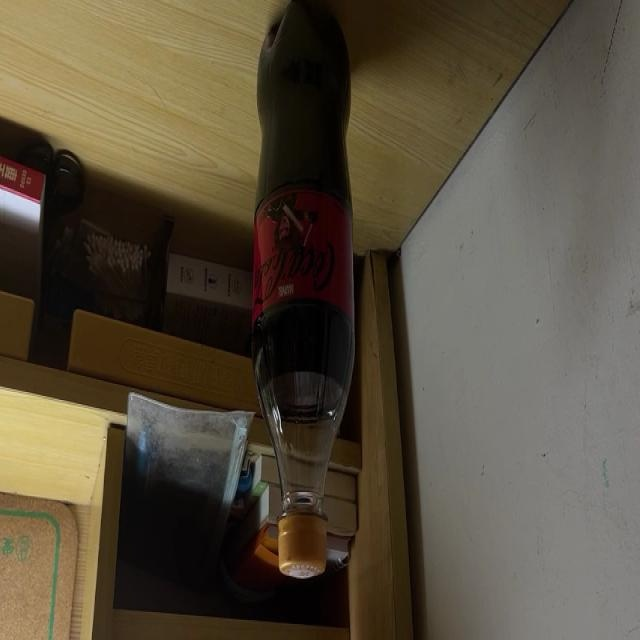Coca-Cola: (253, 0, 351, 581)
